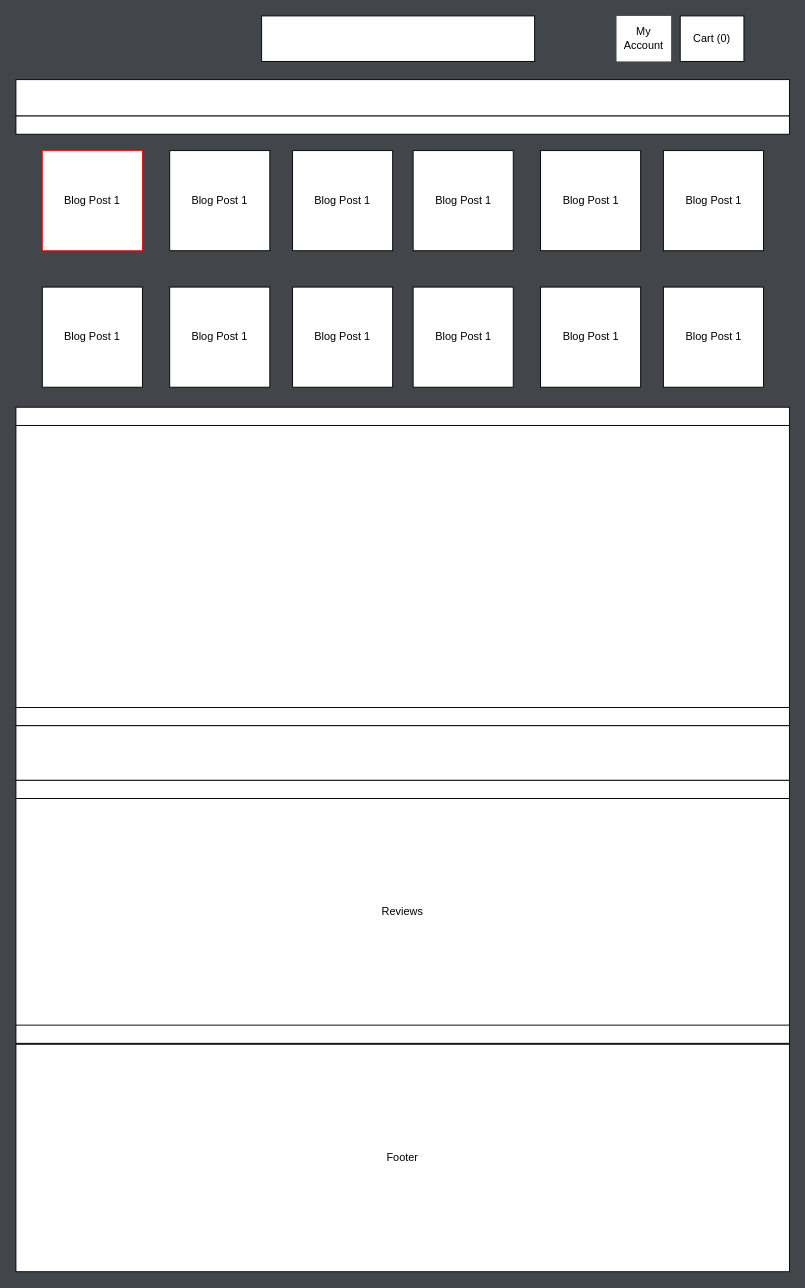
Image size: 805x1288. Some labels were removed from this diagram. Each missing label, with the box of its shape:
Logo: (261, 15, 535, 61)
Nav Bar: (15, 79, 789, 116)
Slider / Images / etc: (15, 425, 789, 708)
Sponsors: (15, 725, 789, 780)
